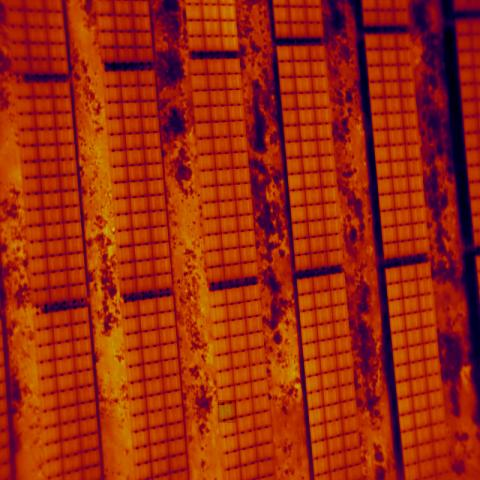fault: (218, 400, 236, 423)
